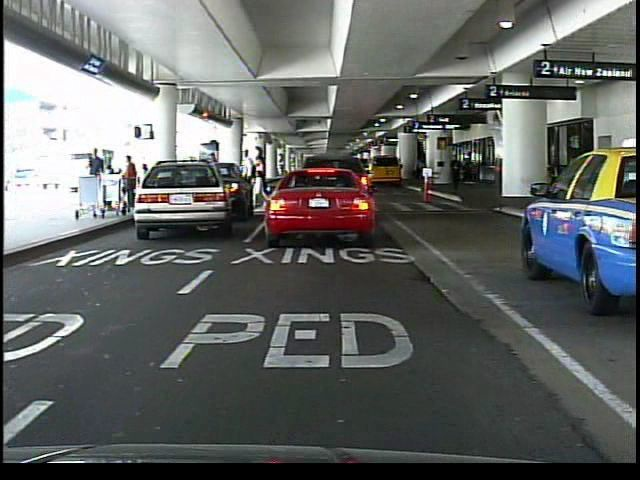person: (239, 147, 257, 218), (200, 150, 223, 205), (88, 148, 107, 207), (309, 153, 327, 203), (450, 153, 464, 190)
